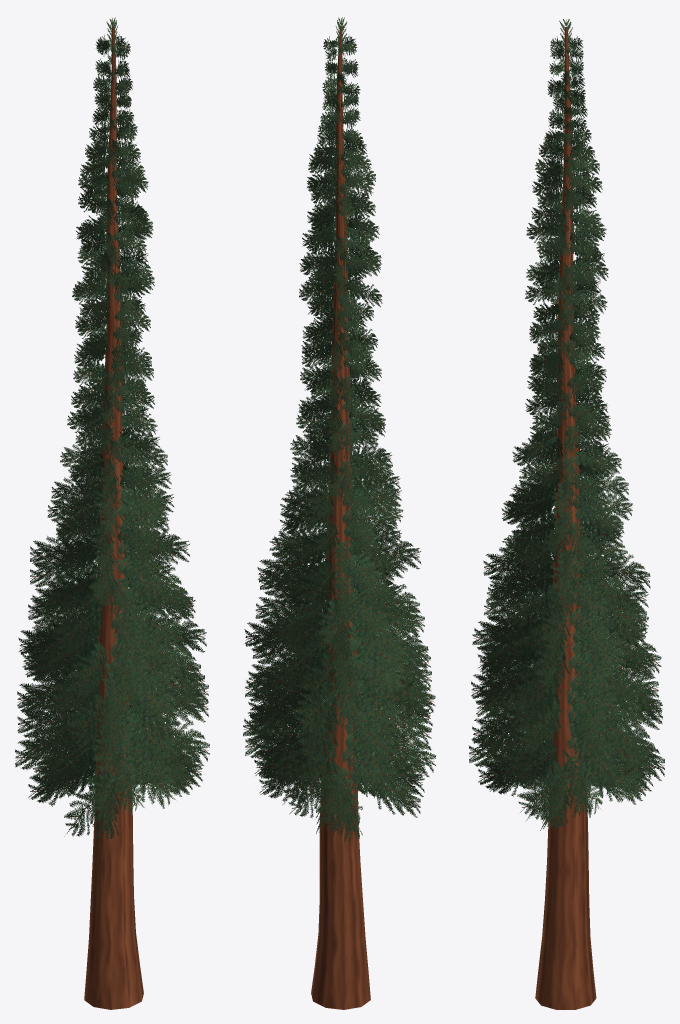
Rendered from veg_redwood_a.fbx.
3 renders of one model, left to right at view 1: azimuth 30°, elevation 25°; view 2: azimuth 150°, elevation 25°; view 3: azimuth 270°, elevation 25°, orthographic.
Visible parts, largest first — view 1: veg_redwood_a_LOD0; view 2: veg_redwood_a_LOD0; view 3: veg_redwood_a_LOD0.
Boxes of the visible parts, x1=… form: veg_redwood_a_LOD0: x1=15, y1=17, x2=209, y2=1009; veg_redwood_a_LOD0: x1=243, y1=17, x2=435, y2=1009; veg_redwood_a_LOD0: x1=469, y1=19, x2=664, y2=1009.
Size of what is drawn, in the model's own units: 6.68 by 36.75 by 6.7.
2 materials, 2 textured.
